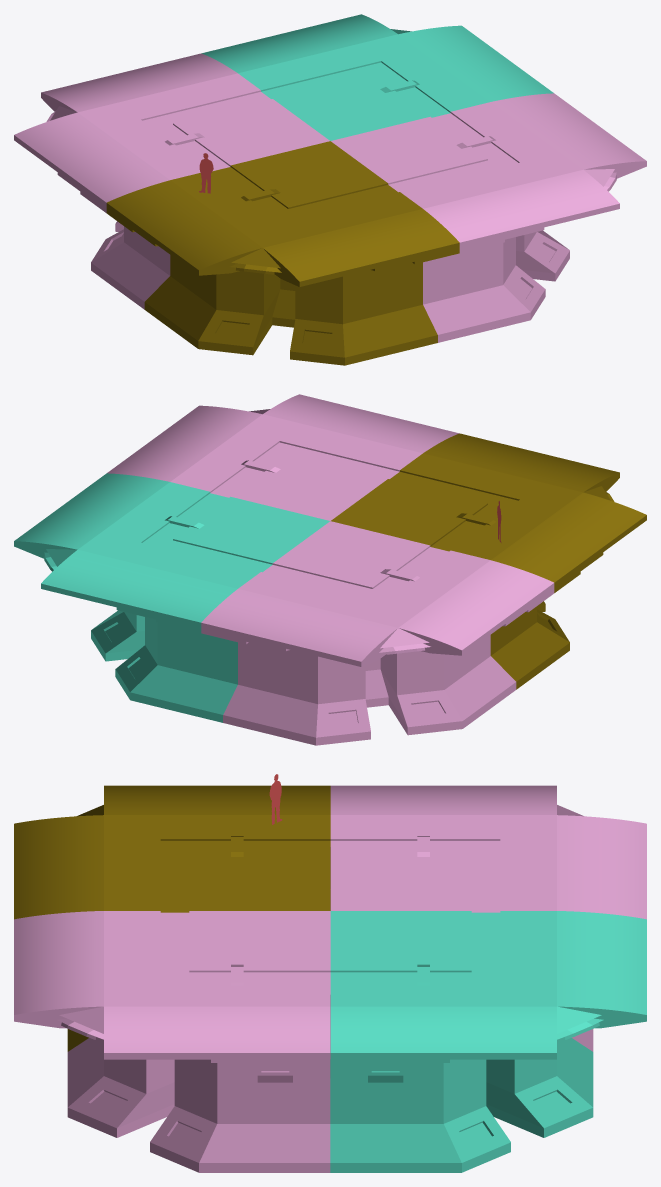
Rendered from helipad.obj.
3 views of the same model, one above another, from view 1: azimuth 30°, elevation 25°; view 2: azimuth 150°, elevation 25°; view 3: azimuth 270°, elevation 25° (orthographic). The views are drawn at different scales.
Visible parts, largest first — view 1: hov_platform_001, hov_platform_002, hov_platform_004, hov_platform_003; view 2: hov_platform_004, hov_platform_003, hov_platform_001, hov_platform_002; view 3: hov_platform_003, hov_platform_002, hov_platform_004, hov_platform_001.
Boxes of the visible parts, x1,y1,x2,y2 form: hov_platform_001: (106, 141, 459, 365); hov_platform_002: (331, 93, 646, 342); hov_platform_004: (14, 53, 329, 309); hov_platform_003: (201, 14, 553, 140); hov_platform_004: (201, 521, 554, 745); hov_platform_003: (14, 473, 329, 722); hov_platform_001: (331, 433, 646, 689); hov_platform_002: (107, 394, 459, 520); hov_platform_003: (330, 911, 646, 1172); hov_platform_002: (14, 911, 330, 1172); hov_platform_004: (330, 785, 646, 1051); hov_platform_001: (14, 785, 330, 1051).
Bounding box in the file's own units: 808 × 281 × 808.
